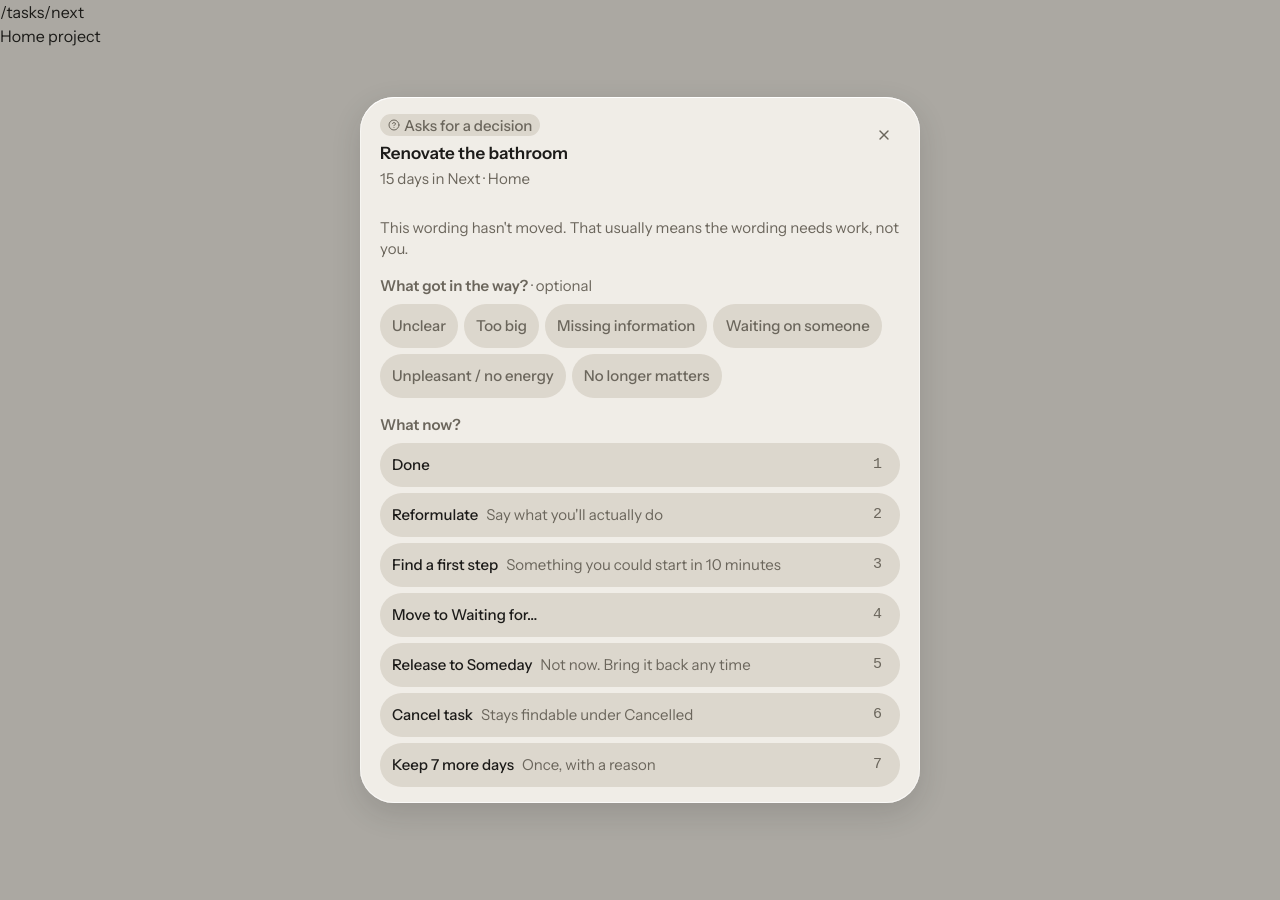
020-FR-006 decision dialog: the card › 020-FR-006 Done saves with the task revision only, pending on its own row, then offers Undo and closes
Click the button "Done 1" at (411, 465), box [380,443,900,487]
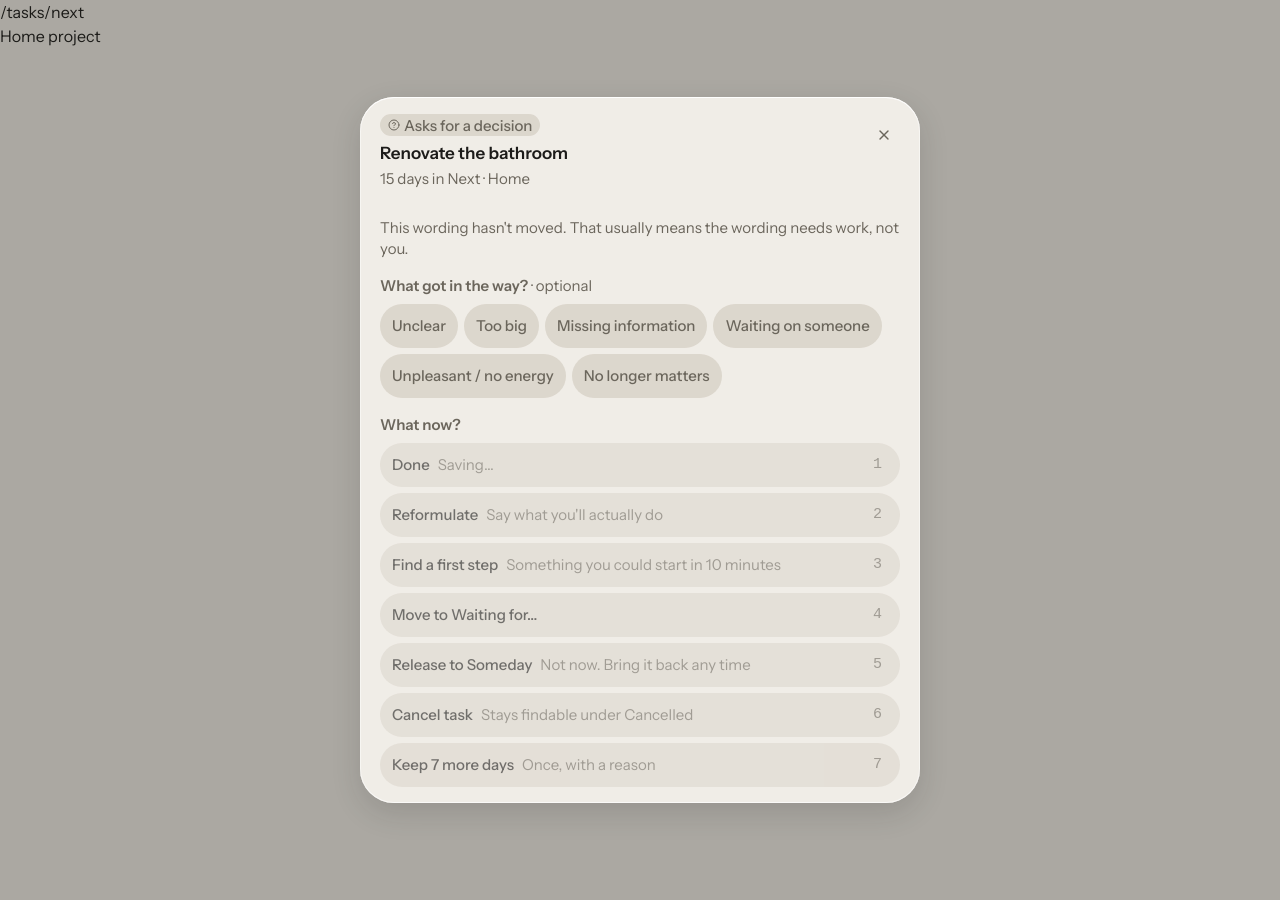
Expected: the button "Too big" is disabled, [464,304,539,348]
Now the button "Done Saving… 1" is shown, box [380,443,900,487]
Now the button "Reformulate Say what you'll actually do 2" is disabled, box [380,493,900,537]
